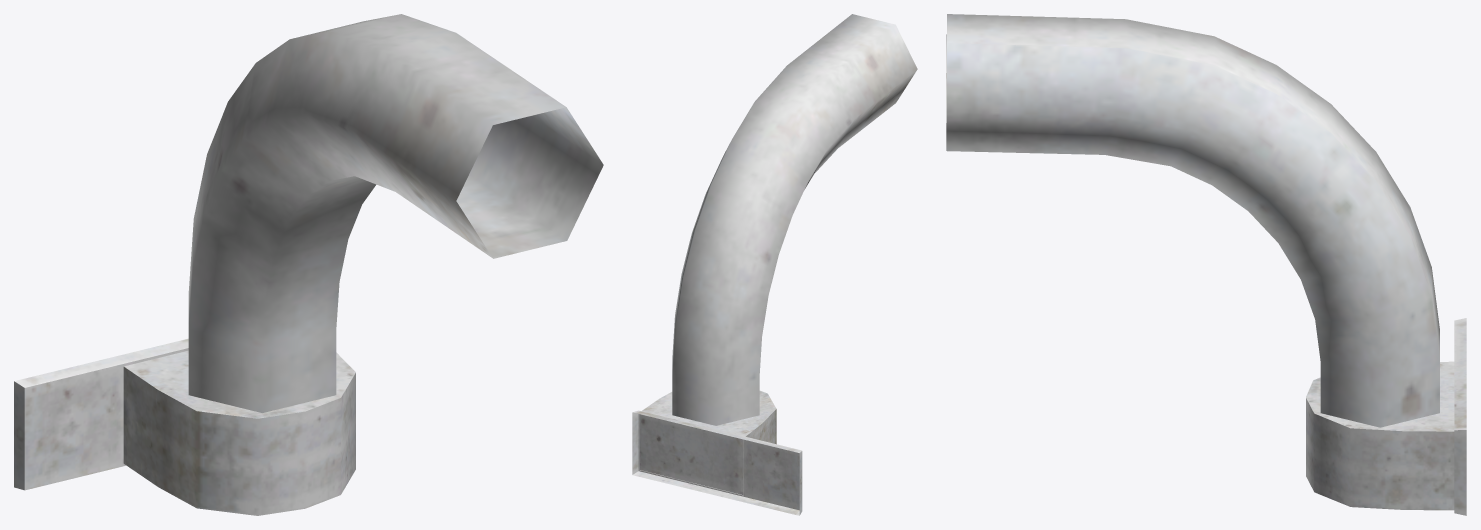
File: SM_Wires_Pipes_01d.glb
3 views of the same model, side by side, from view 1: azimuth 30°, elevation 25°; view 2: azimuth 150°, elevation 25°; view 3: azimuth 270°, elevation 25° (orthographic). The views are drawn at different scales.
Parts seen in each view (by area): view 1: SM_Wires_Pipes_01d; view 2: SM_Wires_Pipes_01d; view 3: SM_Wires_Pipes_01d.
Part boxes in pixels (x1,y1,x2,y2): SM_Wires_Pipes_01d: [14, 14, 603, 515]; SM_Wires_Pipes_01d: [632, 14, 917, 515]; SM_Wires_Pipes_01d: [946, 14, 1466, 515].
Size of the model in its own units: 0.0605 by 0.114 by 0.1188.
Materials: 1 (1 with a texture image).
